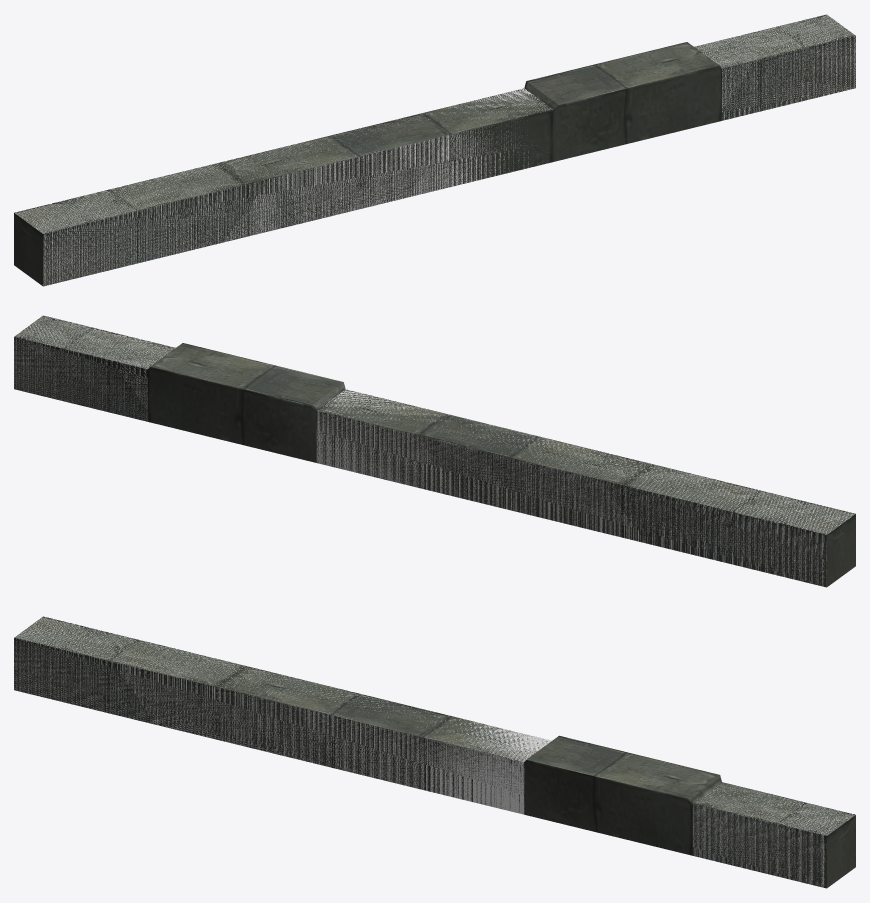
File: YHJ_baobian.FBX
3 views of the same model, one above another, from view 1: azimuth 30°, elevation 25°; view 2: azimuth 150°, elevation 25°; view 3: azimuth 330°, elevation 25° (orthographic).
Parts seen in each view (by area): view 1: YHJ_baobian, YHJ_baobian-col; view 2: YHJ_baobian, YHJ_baobian-col; view 3: YHJ_baobian, YHJ_baobian-col.
Boxes of the visible parts, left/top/right/bottom form: YHJ_baobian: left=14, top=14, right=855, bottom=286; YHJ_baobian-col: left=15, top=14, right=855, bottom=285; YHJ_baobian: left=14, top=315, right=855, bottom=587; YHJ_baobian-col: left=14, top=315, right=854, bottom=586; YHJ_baobian: left=14, top=616, right=855, bottom=888; YHJ_baobian-col: left=14, top=617, right=853, bottom=887.
Size of the model in its own units: 23.27 by 1.57 by 1.63.
